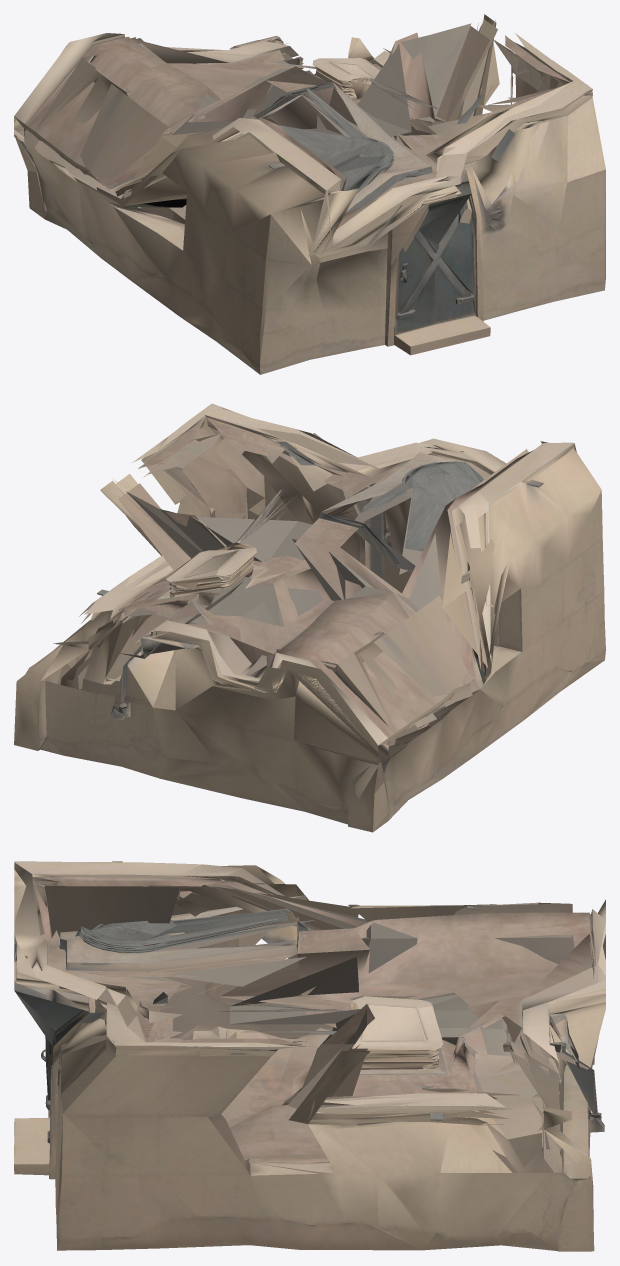
The model's file is concrete_wreck.glb.
The picture shows the model from 3 angles, top to bottom: view 1: azimuth 30°, elevation 25°; view 2: azimuth 150°, elevation 25°; view 3: azimuth 270°, elevation 25°; orthographic projection. The views are drawn at different scales.
Parts seen in each view (by area): view 1: wall.001, roof.001; view 2: wall.001, roof.001; view 3: wall.001, roof.001.
Boxes of the visible parts, left/top/right/bottom form: wall.001: left=14, top=14, right=605, bottom=374; roof.001: left=14, top=20, right=592, bottom=246; wall.001: left=14, top=405, right=605, bottom=832; roof.001: left=84, top=403, right=574, bottom=745; wall.001: left=14, top=861, right=605, bottom=1251; roof.001: left=14, top=861, right=605, bottom=1108.
Bounding box in the file's own units: 7.23 × 3.49 × 8.5.
Materials: 1 (1 with a texture image).
